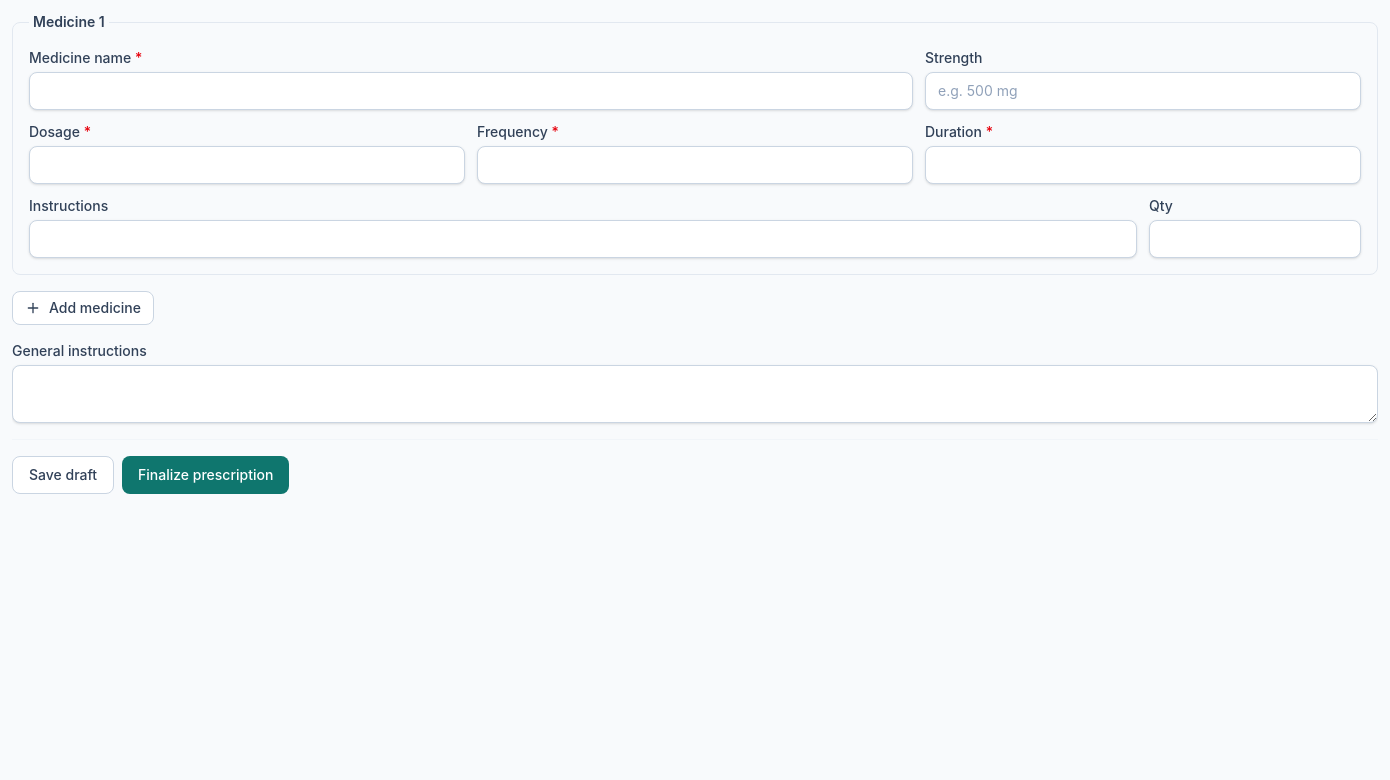
PrescriptionEditor › validates required fields before saving
Click the button "Save draft" at (63,475), box [12,456,114,494]
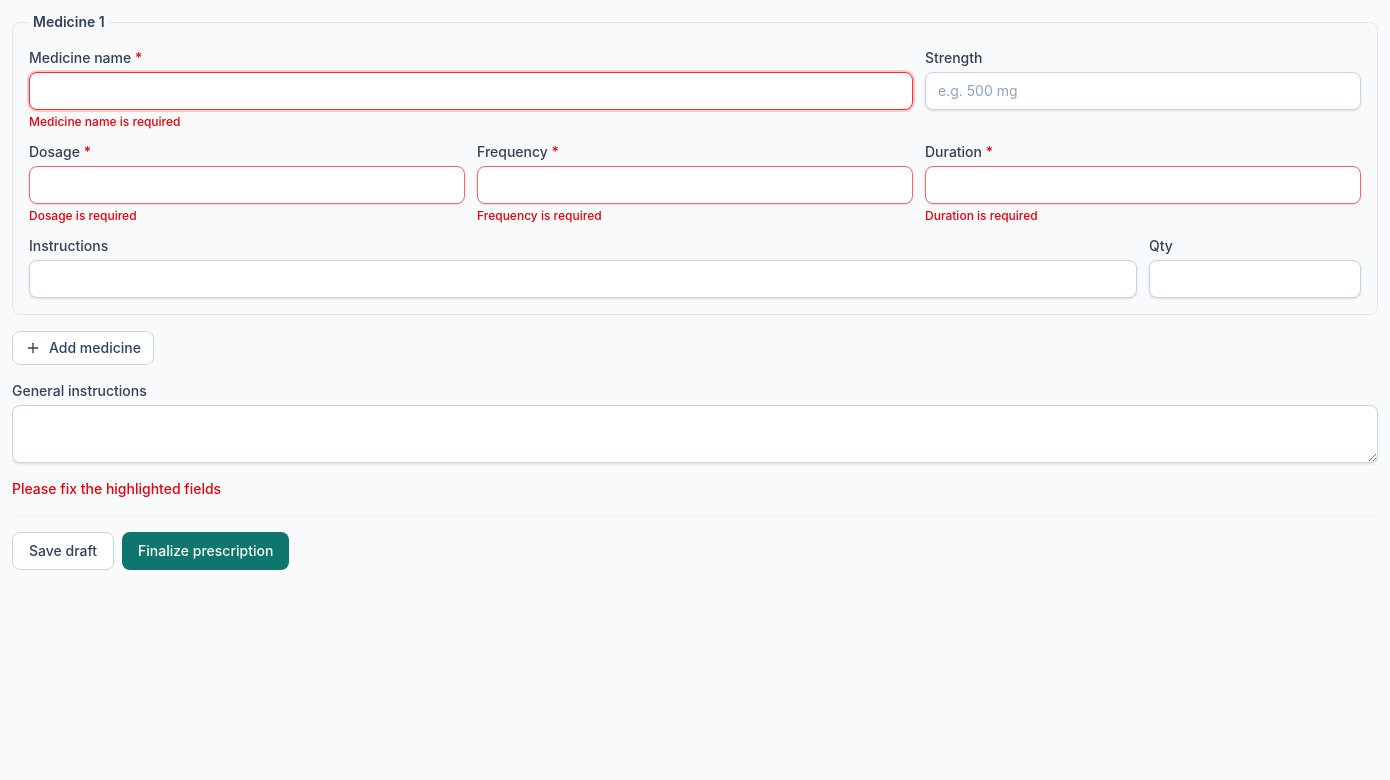
Expected: the text "Medicine name is required" is shown, [29,114,180,129]
Expected: the text "Dosage is required" is shown, [29,208,137,223]
